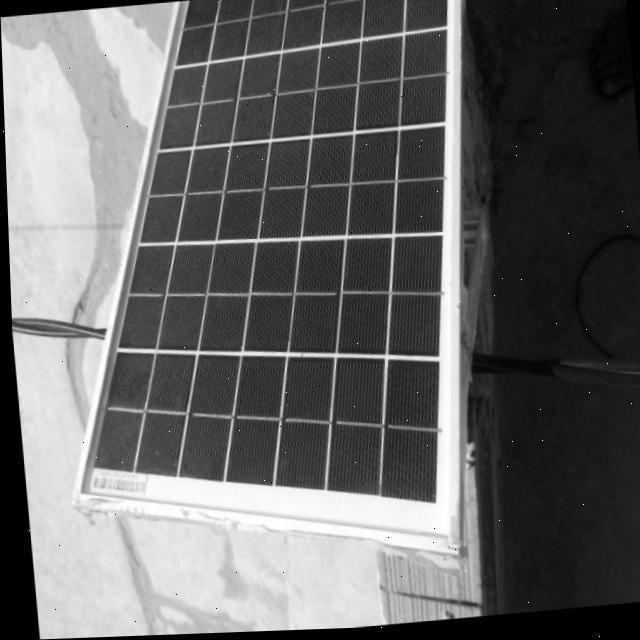Normal Solar Panel: (31, 0, 509, 583)
